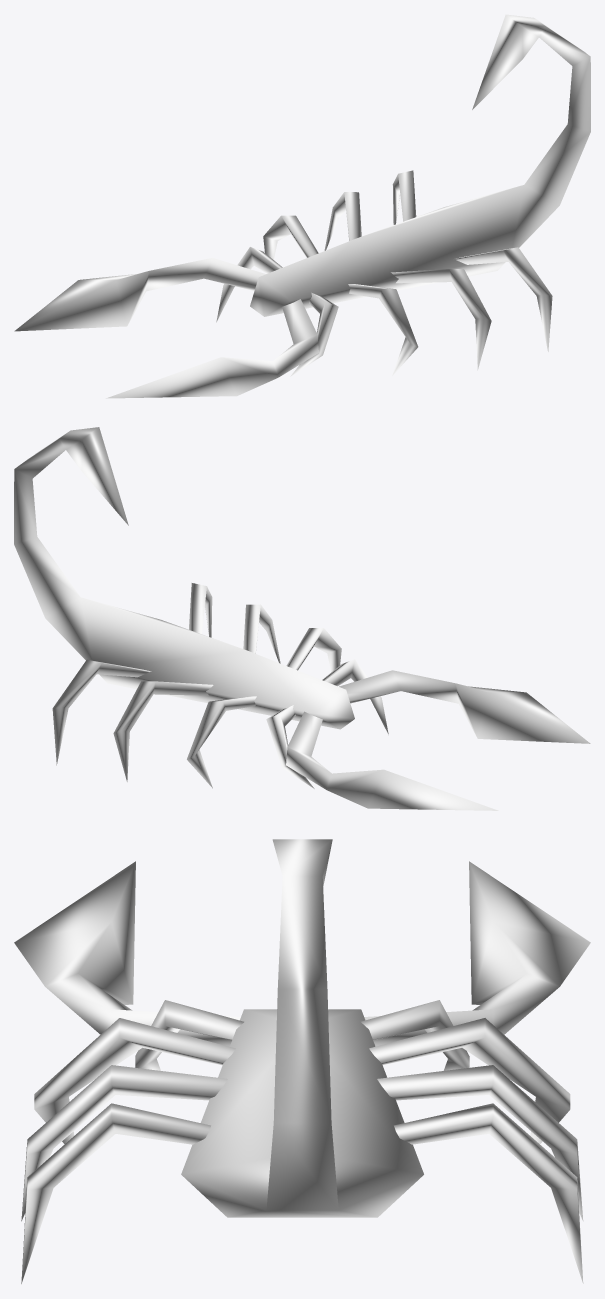
The model's file is icon.ico.obj.
3 views of the same model, one above another, from view 1: azimuth 30°, elevation 25°; view 2: azimuth 150°, elevation 25°; view 3: azimuth 270°, elevation 25° (orthographic). The views are drawn at different scales.
Size of the model in its own units: 3.89 by 1.88 by 2.04.
1 material, 1 textured.
